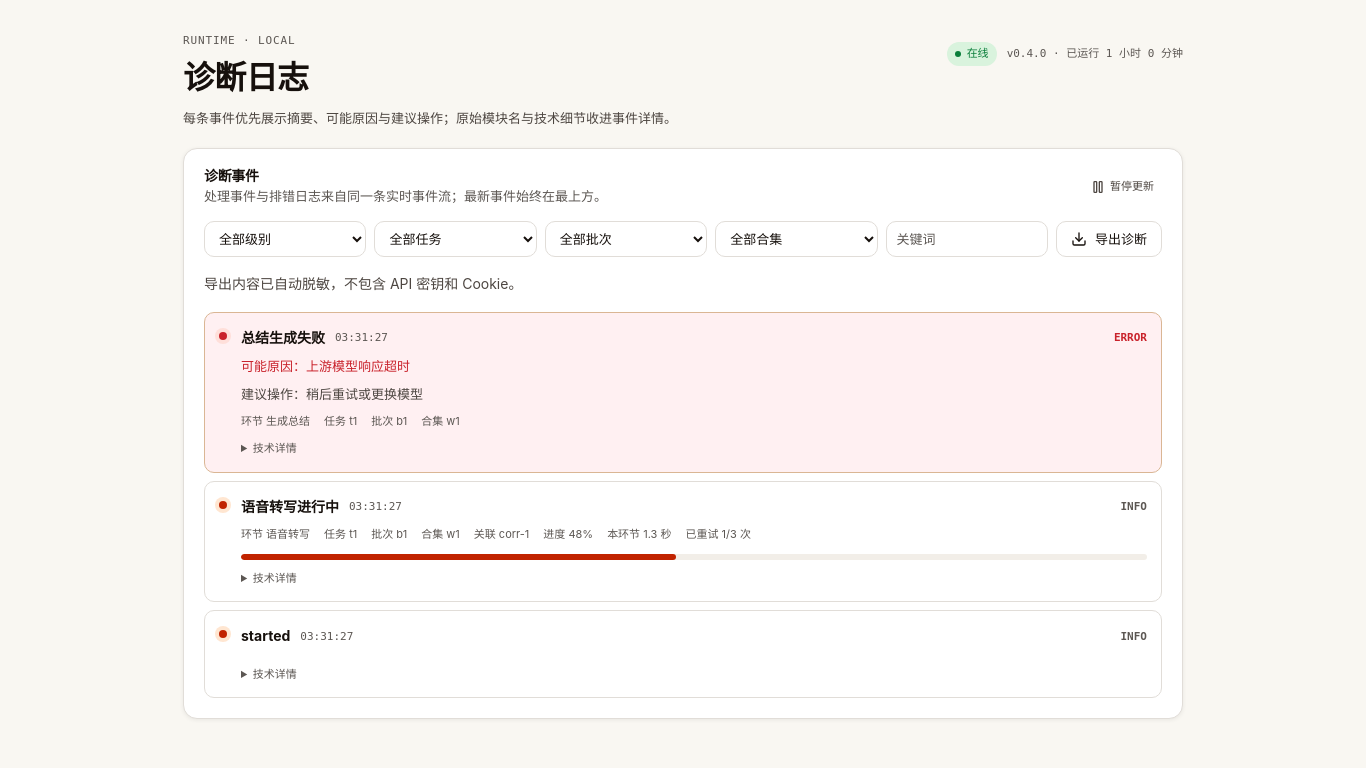
Test: DeployMonitorPage 诊断日志 › 保留级别过滤
Expected: the text "总结生成失败" is shown, [241, 326, 325, 349]
Select "ERROR" in the dropdown named "日志级别" at (285, 239), box [204, 221, 366, 257]
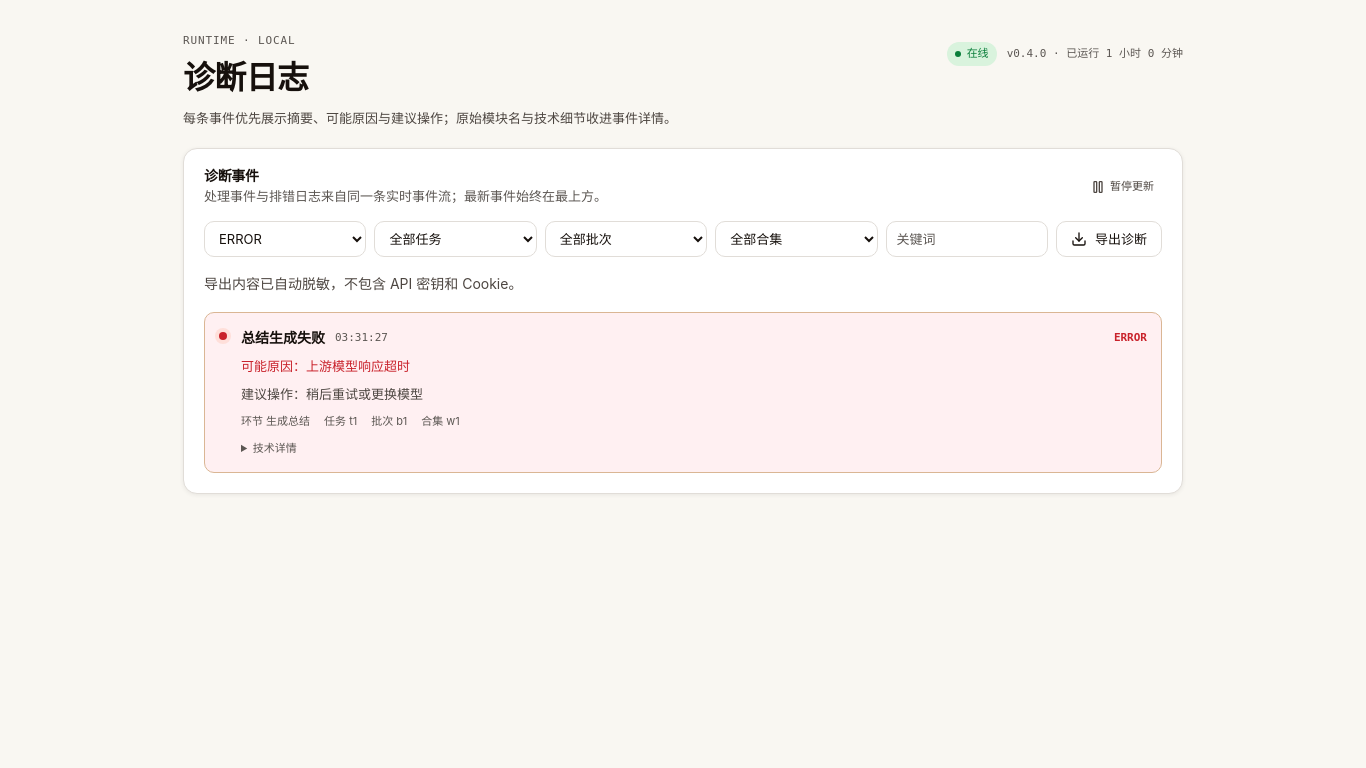
Expected: the text "总结生成失败" is shown, [241, 326, 325, 349]
Result: the text "语音转写进行中" is gone
